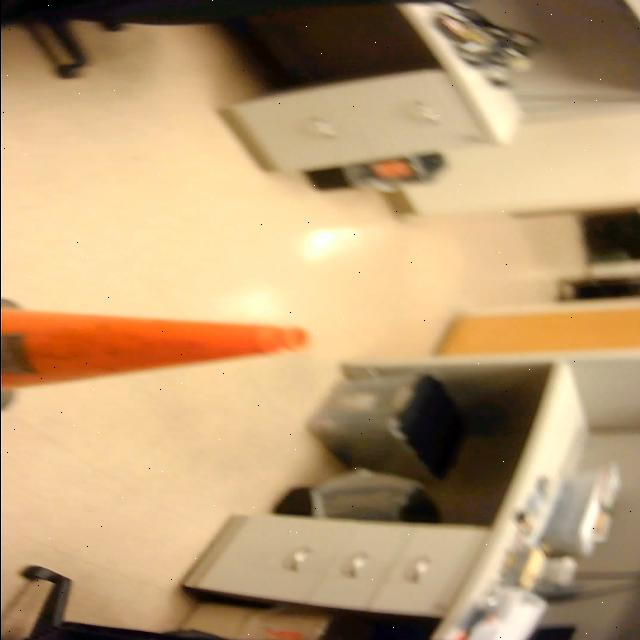traffic cone: (1, 293, 316, 417)
